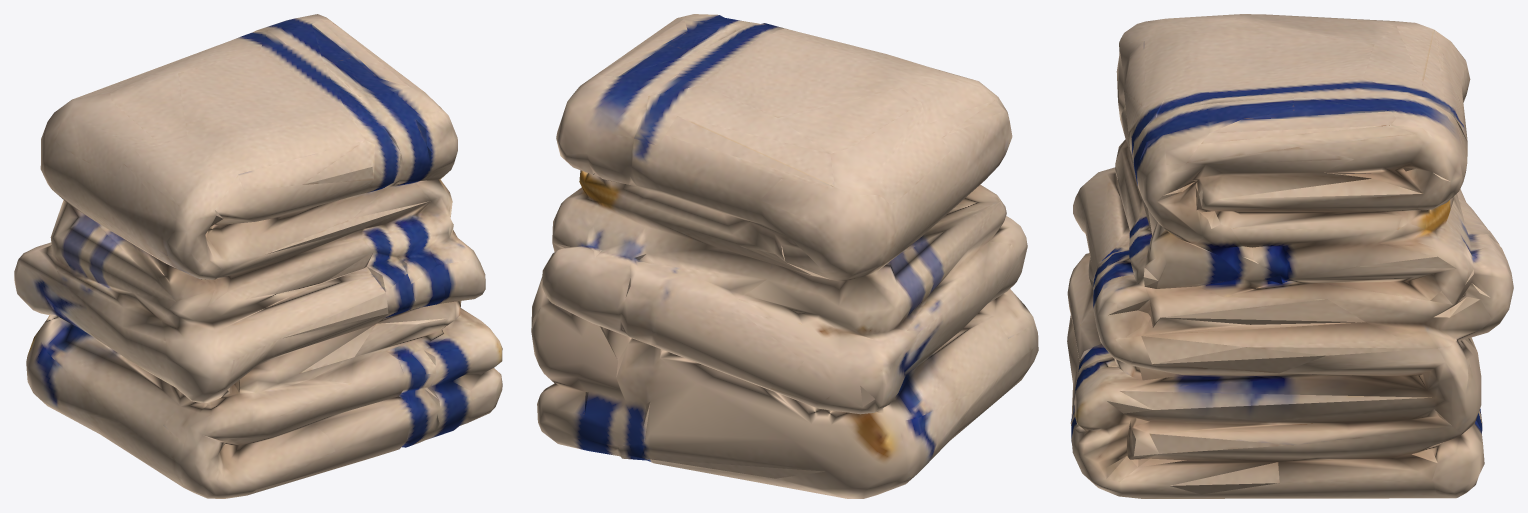
File: blankets.glb
3 views of the same model, side by side, from view 1: azimuth 30°, elevation 25°; view 2: azimuth 150°, elevation 25°; view 3: azimuth 270°, elevation 25° (orthographic). The views are drawn at different scales.
Parts seen in each view (by area): view 1: blankets; view 2: blankets; view 3: blankets.
Part boxes in pixels (left/top/right/bottom): blankets: left=14, top=14, right=502, bottom=498; blankets: left=531, top=14, right=1038, bottom=498; blankets: left=1067, top=14, right=1513, bottom=498.
Size of the model in its own units: 0.9035 by 0.8333 by 0.9075.
1 material, 1 textured.
